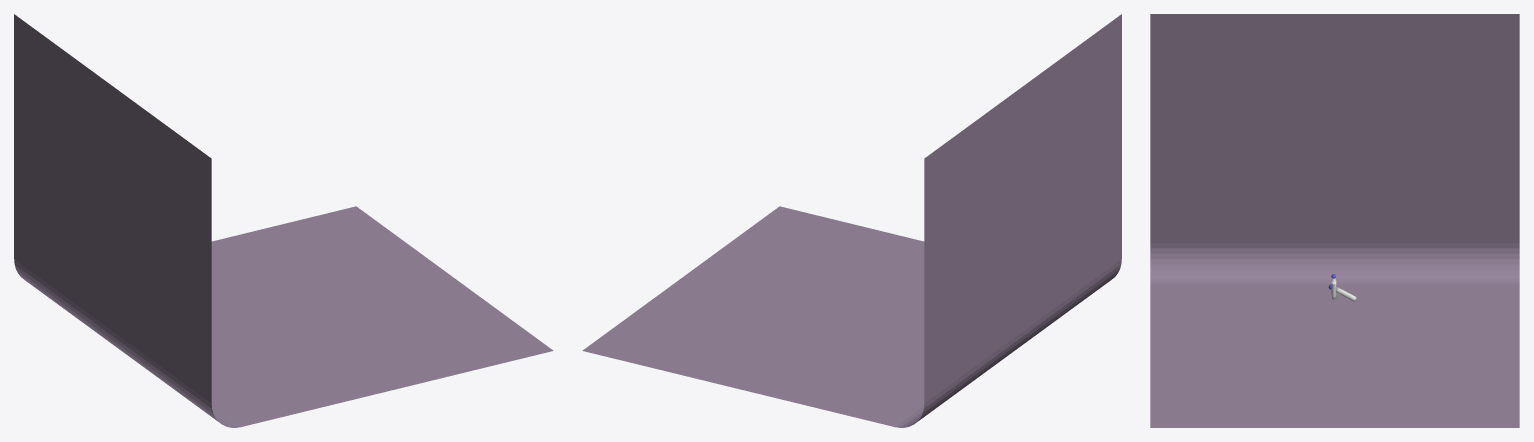
The model's file is 3D Vial.fbx.
The picture shows the model from 3 angles, left to right: view 1: azimuth 30°, elevation 25°; view 2: azimuth 150°, elevation 25°; view 3: azimuth 270°, elevation 25°; orthographic projection. The views are drawn at different scales.
Parts seen in each view (by area): view 1: Plane; view 2: Plane; view 3: Plane.
Part boxes in pixels (x1,y1,x2,y2): Plane: (14,14,553,427); Plane: (582,14,1121,427); Plane: (1150,14,1519,427).
Bounding box in the file's own units: 7423 × 5742 × 7423.
